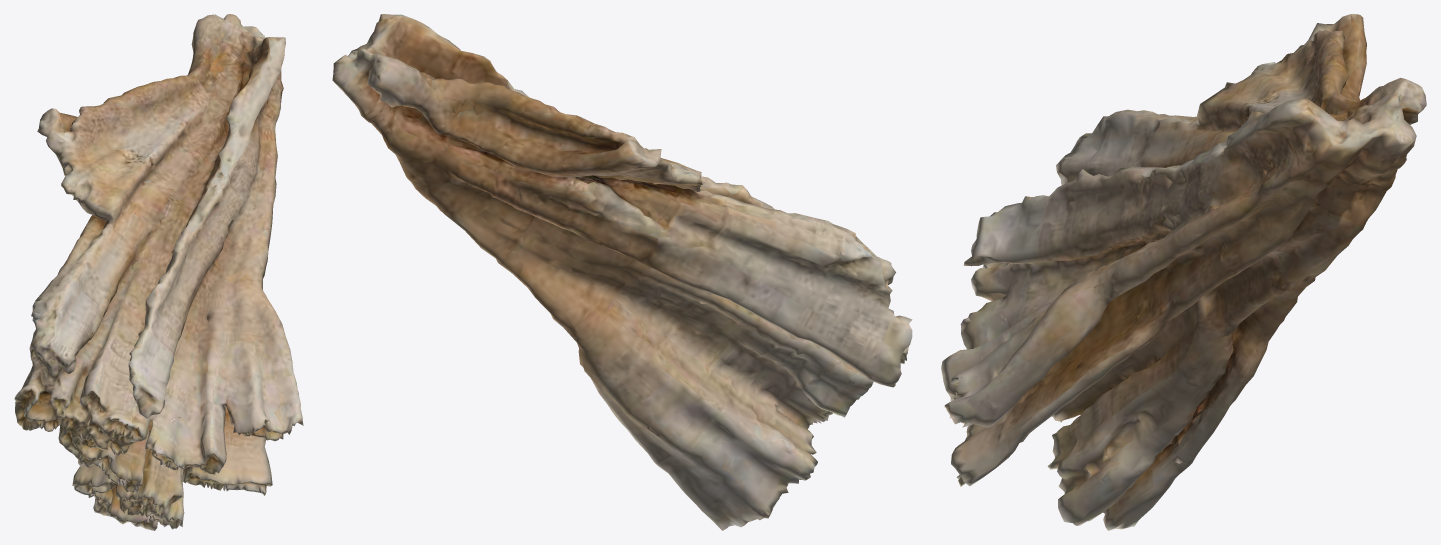
The model's file is lobophyllia.glb.
3 renders of one model, left to right at view 1: azimuth 30°, elevation 25°; view 2: azimuth 150°, elevation 25°; view 3: azimuth 270°, elevation 25°, orthographic. The views are drawn at different scales.
Visible parts, largest first — view 1: mesh_0; view 2: mesh_0; view 3: mesh_0.
Part boxes in pixels (x1,y1,x2,y2): mesh_0: [14, 14, 303, 530]; mesh_0: [332, 14, 912, 530]; mesh_0: [941, 14, 1426, 530].
Size of the model in its own units: 0.1865 by 0.2039 by 0.1596.
1 material, 1 textured.
